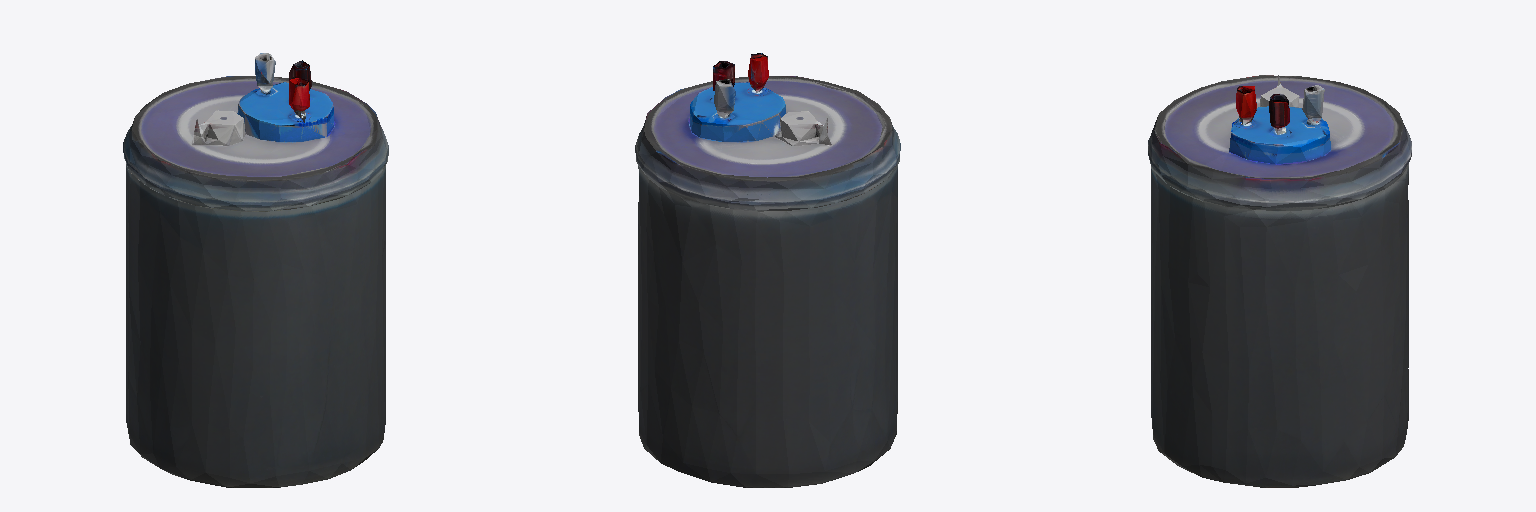
3 renders of one model, left to right at view 1: azimuth 30°, elevation 25°; view 2: azimuth 150°, elevation 25°; view 3: azimuth 270°, elevation 25°, orthographic.
Visible parts, largest first — view 1: Electrolytic_Cell_Con_[number redacted]_texture; view 2: Electrolytic_Cell_Con_[number redacted]_texture; view 3: Electrolytic_Cell_Con_[number redacted]_texture.
Boxes of the visible parts, <box> form: Electrolytic_Cell_Con_[number redacted]_texture: <box>123,53,388,487</box>; Electrolytic_Cell_Con_[number redacted]_texture: <box>635,53,900,487</box>; Electrolytic_Cell_Con_[number redacted]_texture: <box>1148,75,1411,487</box>.
Size of the model in its own units: 1.28 by 1.91 by 1.27.
Materials: 1 (1 with a texture image).